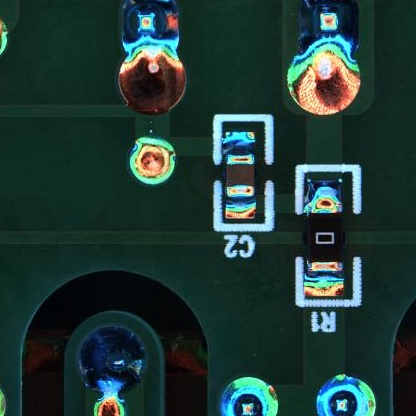spot: (78, 327, 147, 394), (116, 1, 178, 46), (297, 1, 359, 45), (315, 373, 378, 416), (222, 376, 280, 416)
